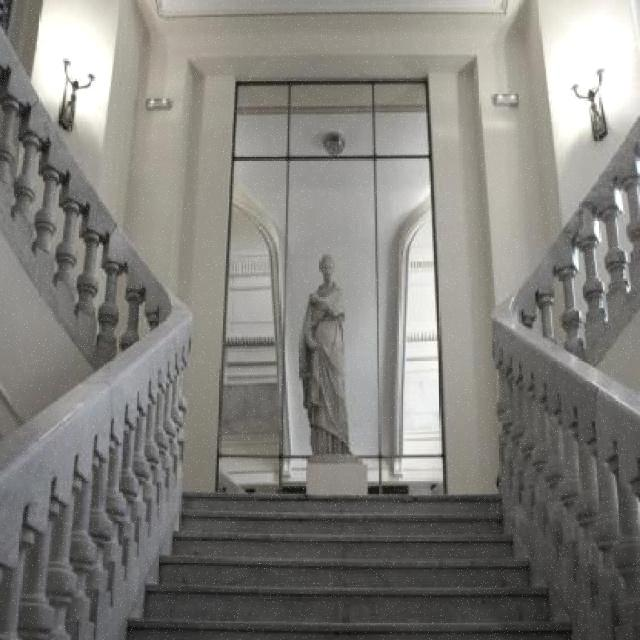stair: (124, 492, 576, 638)
